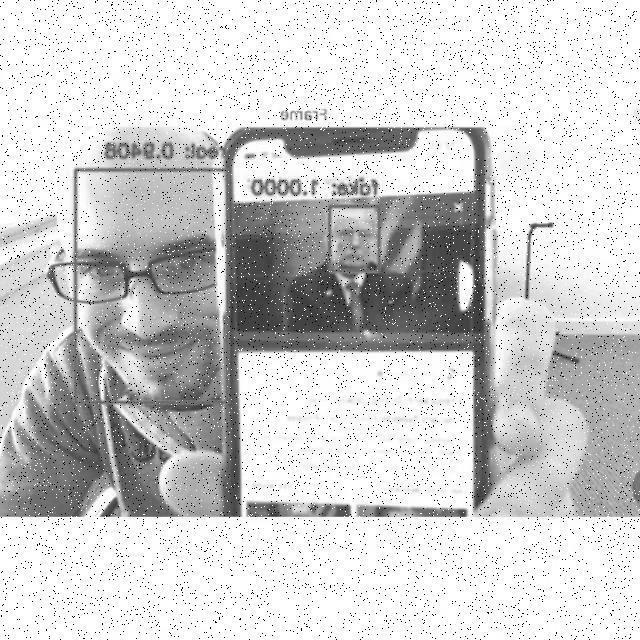fake: (215, 127, 495, 515)
real: (83, 175, 212, 396)
